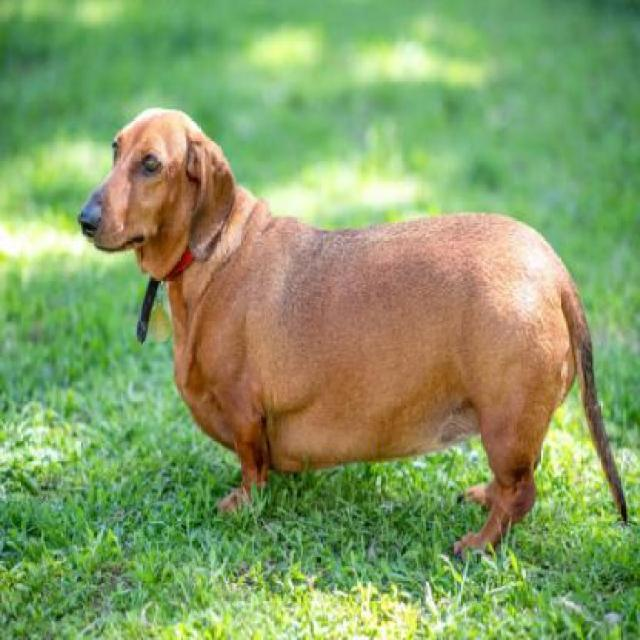Dog: (75, 100, 634, 569)
